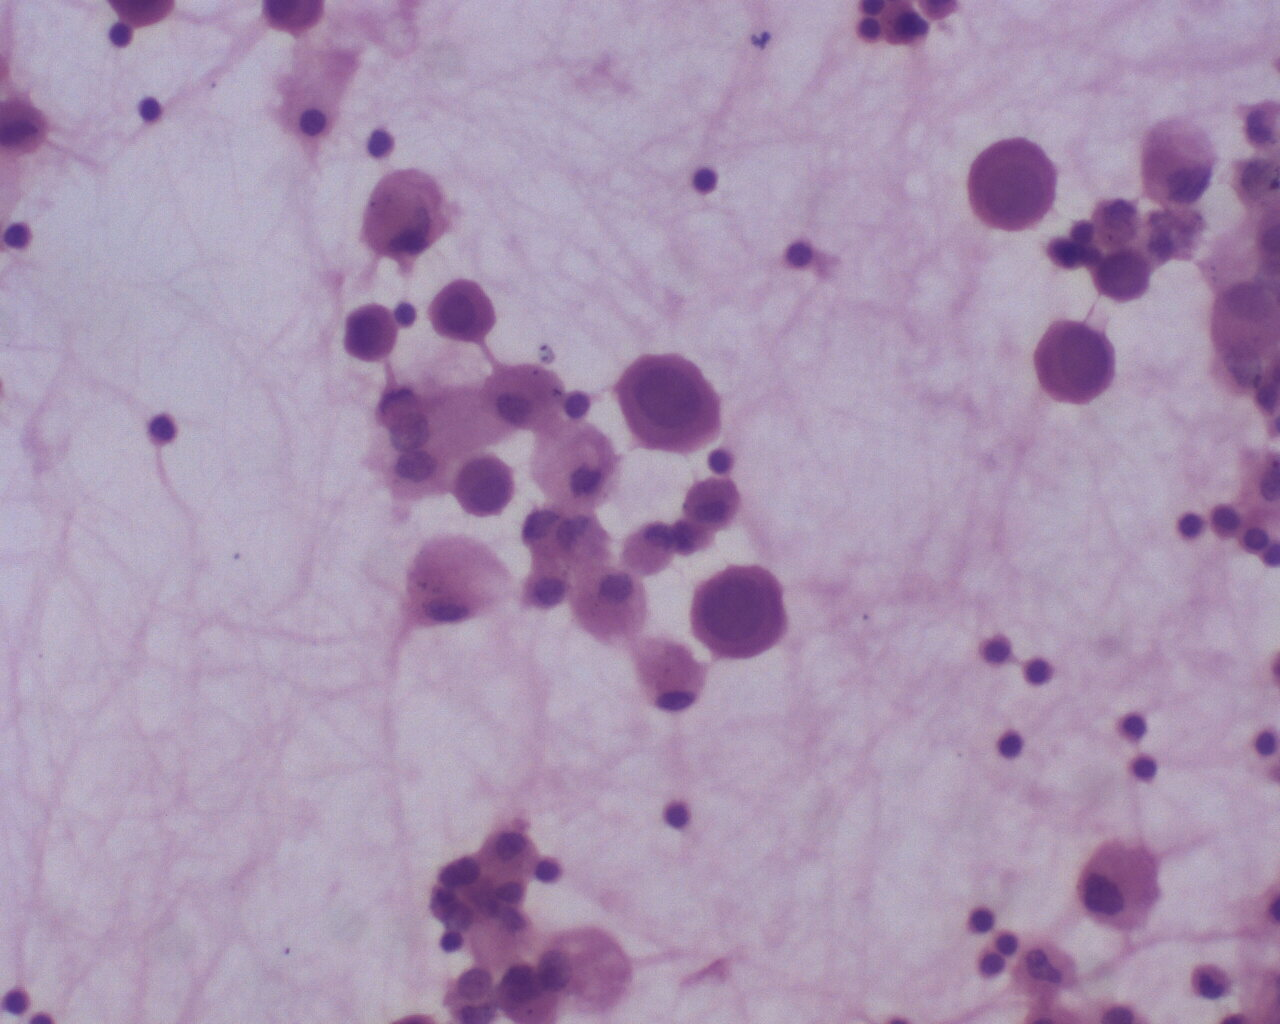ab: (616, 342, 727, 463), (689, 560, 795, 669), (961, 134, 1061, 237), (1027, 317, 1123, 411), (445, 452, 518, 523)
lymph: (126, 89, 170, 134), (689, 160, 732, 200), (1124, 749, 1167, 789), (991, 727, 1029, 765), (145, 408, 179, 450), (102, 20, 136, 51)
meso: (1073, 837, 1164, 931), (568, 566, 656, 648), (476, 358, 563, 438), (631, 637, 707, 712)
